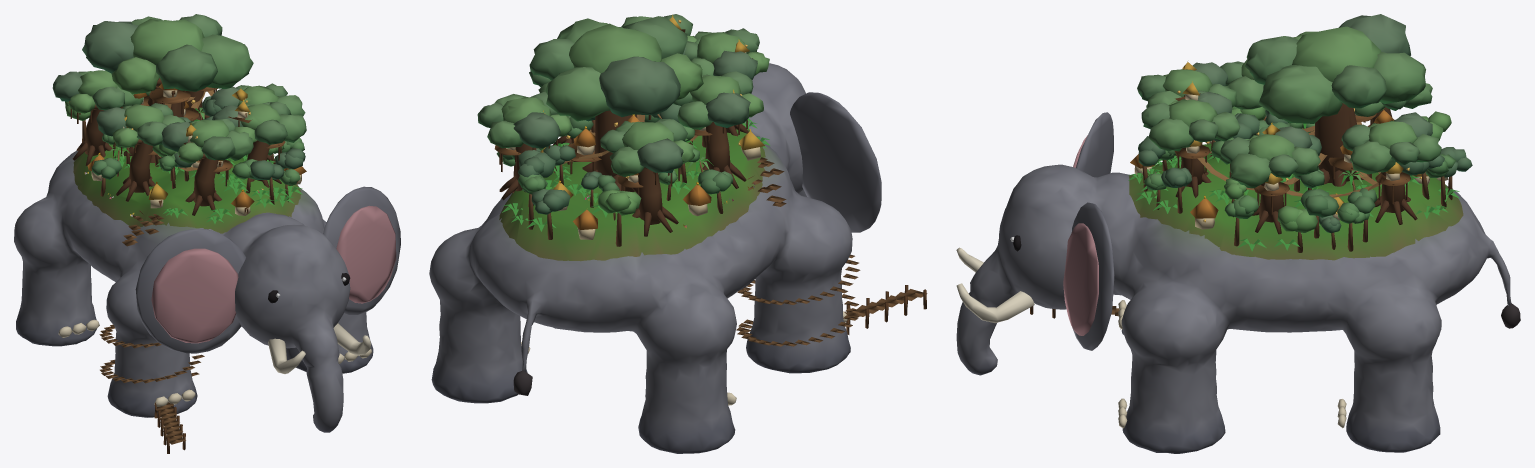
3 renders of one model, left to right at view 1: azimuth 30°, elevation 25°; view 2: azimuth 150°, elevation 25°; view 3: azimuth 270°, elevation 25°, orthographic. The views are drawn at different scales.
Visible parts, largest first — view 1: BASE, VILLE_2; view 2: BASE, VILLE_2; view 3: BASE.
Part boxes in pixels (bbox=[...]): BASE: bbox=[14, 14, 400, 453]; VILLE_2: bbox=[69, 101, 199, 208]; BASE: bbox=[429, 14, 927, 453]; VILLE_2: bbox=[532, 110, 764, 239]; BASE: bbox=[956, 14, 1520, 453].
Size of the model in its own units: 47.13 by 51.66 by 74.94.
